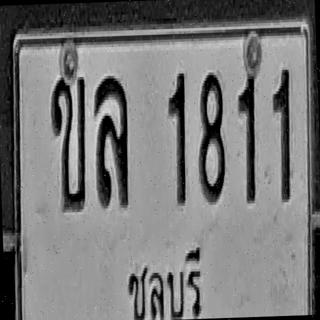A02: (49, 73, 89, 211)
A36: (93, 74, 130, 207)
N01: (236, 64, 263, 202), (166, 70, 189, 206), (271, 67, 294, 200)
N08: (196, 69, 226, 202)
P04: (124, 240, 125, 240)
P13: (123, 236, 207, 320)
